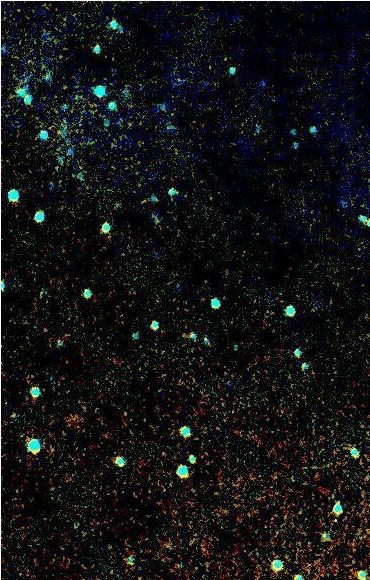star: (43, 118, 73, 148)
